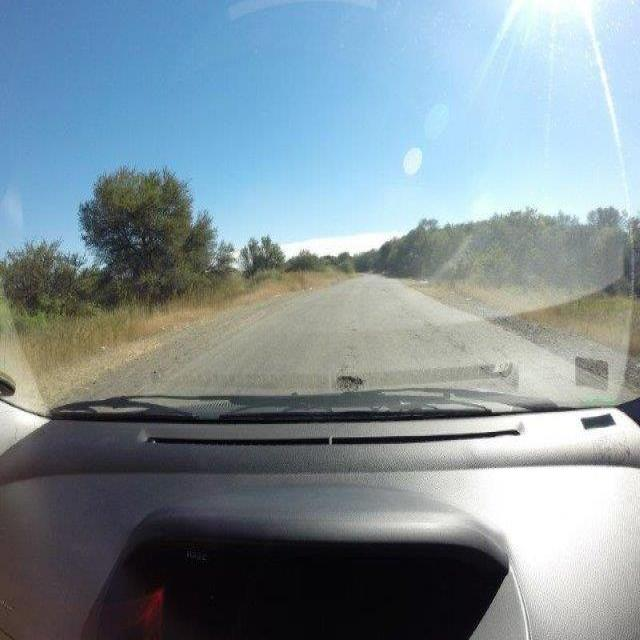lubang: (329, 367, 372, 393)
